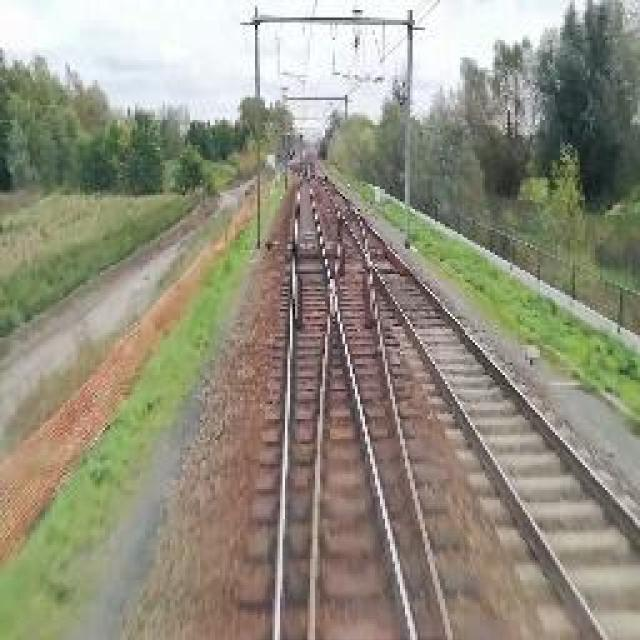rail: (256, 177, 465, 640)
